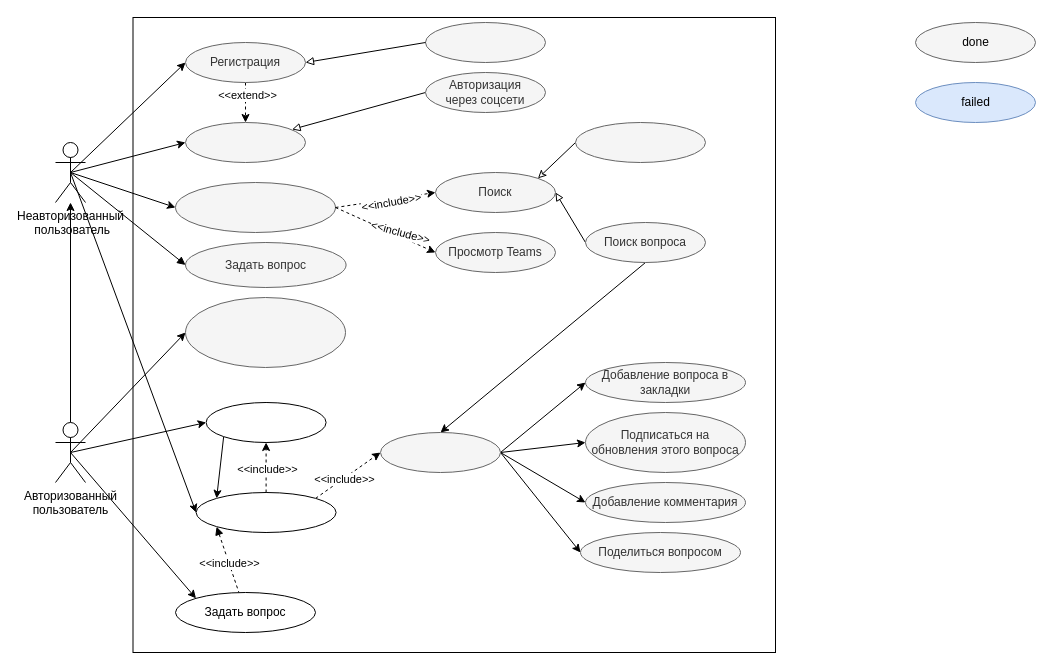
Image size: 1053x670. Some labels were removed from this diagram. The shapes that lost their labels are listed below. From the top down, each one's box as (x1, y1, x2, y2) in pixels, then its label:
(424, 22, 546, 62): Регистрация через соцсети
(184, 122, 306, 162): Авторизация
(574, 122, 706, 162): Поиск пользователя
(174, 182, 336, 232): Просмотр лендинговой страницы
(184, 296, 346, 368): Изменение личной информации в профиле
(205, 402, 326, 442): Просмотр тегов
(380, 432, 500, 472): Просмотр вопроса
(195, 492, 336, 532): Просмотр списка вопросов
